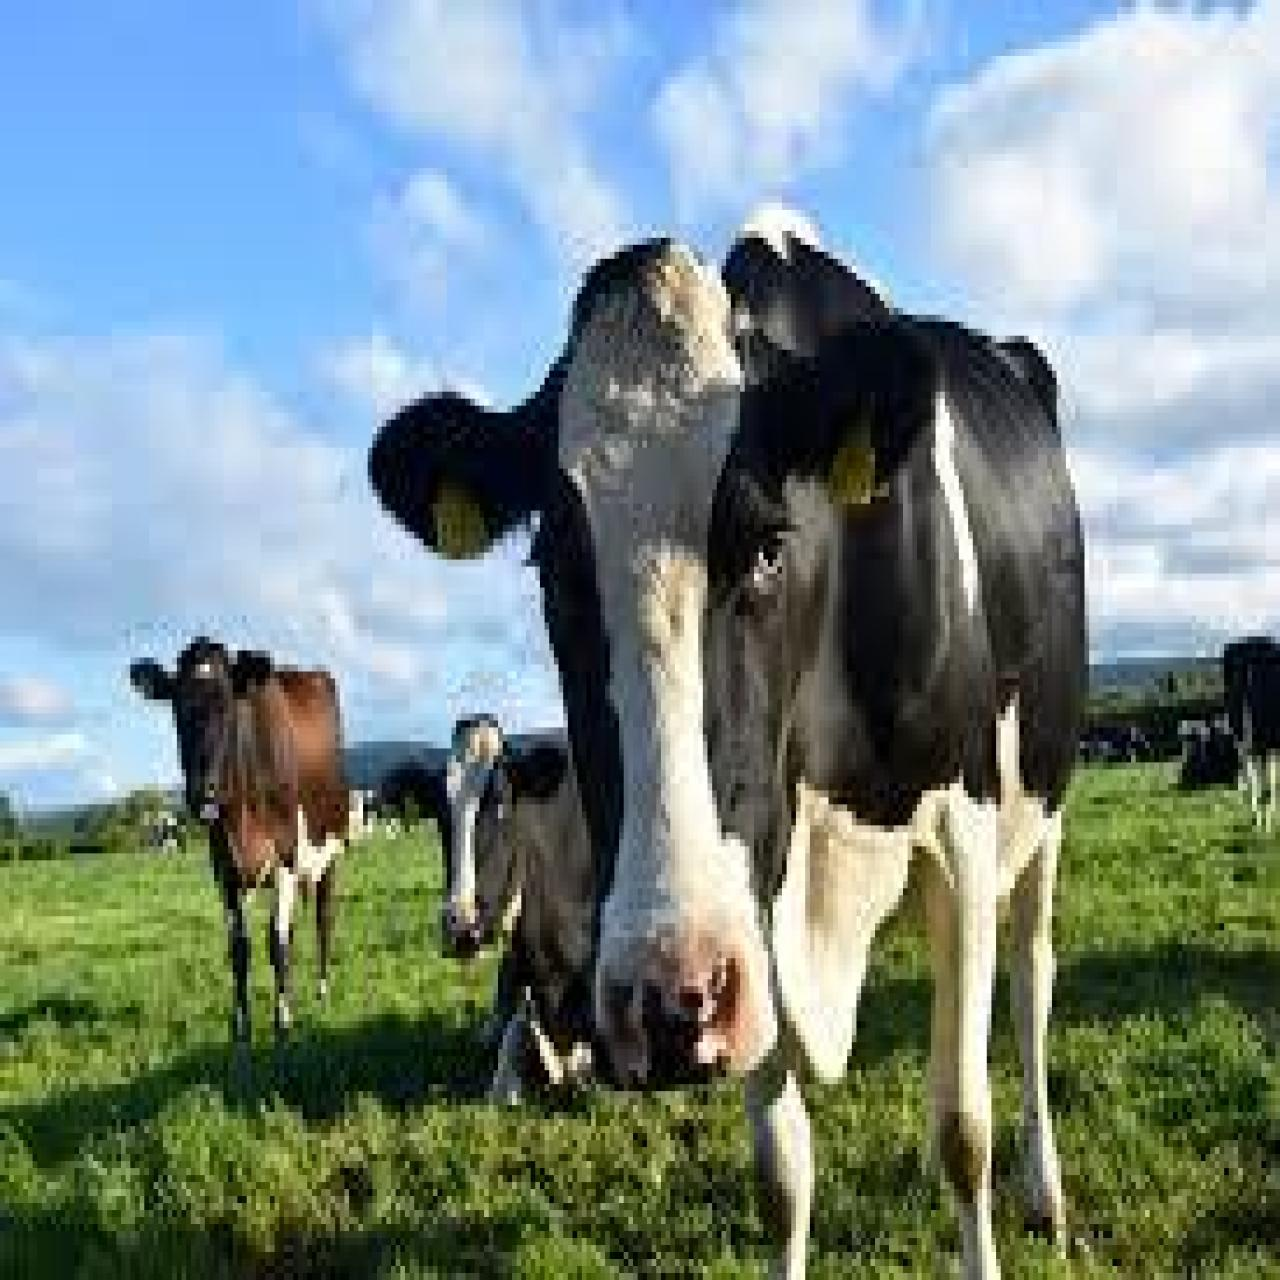cow: (363, 196, 1084, 1280), (390, 717, 628, 1116), (125, 629, 354, 1014)
